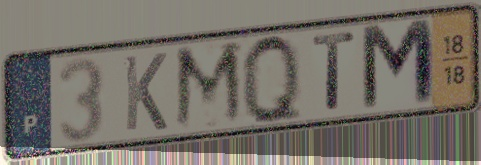3: (56, 50, 109, 149)
K: (121, 50, 169, 134)
M: (358, 15, 439, 116), (172, 38, 247, 135)
Q: (238, 30, 306, 128)
T: (310, 29, 359, 114)
